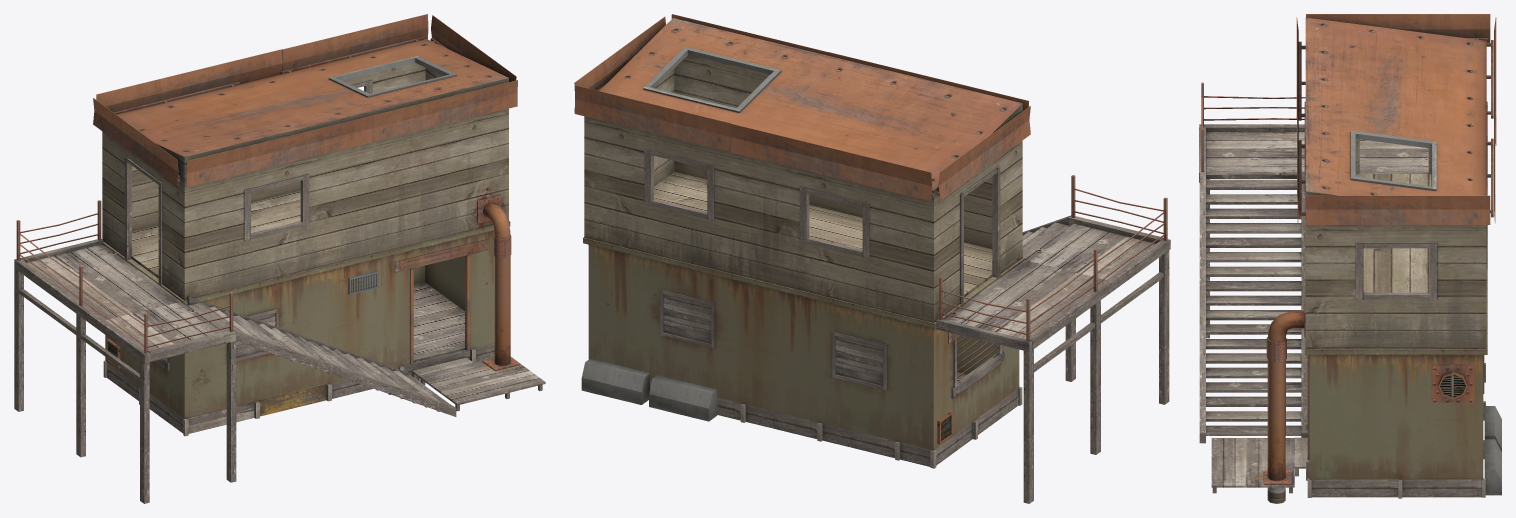
Rendered from shanty_hq.glb.
3 renders of one model, left to right at view 1: azimuth 30°, elevation 25°; view 2: azimuth 150°, elevation 25°; view 3: azimuth 270°, elevation 25°, orthographic. The views are drawn at different scales.
Parts seen in each view (by area): view 1: 2ND Building_2ND Building_0, 1ST Building_1ST Building_0, 3 Sets_3 Set_0; view 2: 2ND Building_2ND Building_0, 1ST Building_1ST Building_0, 3 Sets_3 Set_0; view 3: 2ND Building_2ND Building_0, 3 Sets_3 Set_0, 1ST Building_1ST Building_0.
Boxes of the visible parts, x1,y1,x2,y2 form: 2ND Building_2ND Building_0: (93,14,517,300); 1ST Building_1ST Building_0: (103,221,510,436); 3 Sets_3 Set_0: (14,195,545,503); 2ND Building_2ND Building_0: (574,14,1030,322); 1ST Building_1ST Building_0: (583,237,1024,468); 3 Sets_3 Set_0: (581,175,1170,503); 2ND Building_2ND Building_0: (1296,14,1496,348); 3 Sets_3 Set_0: (1199,82,1501,503); 1ST Building_1ST Building_0: (1294,192,1487,498).
Bounding box in the file's own units: 9.2 × 6.08 × 5.22.
3 materials, 3 textured.
